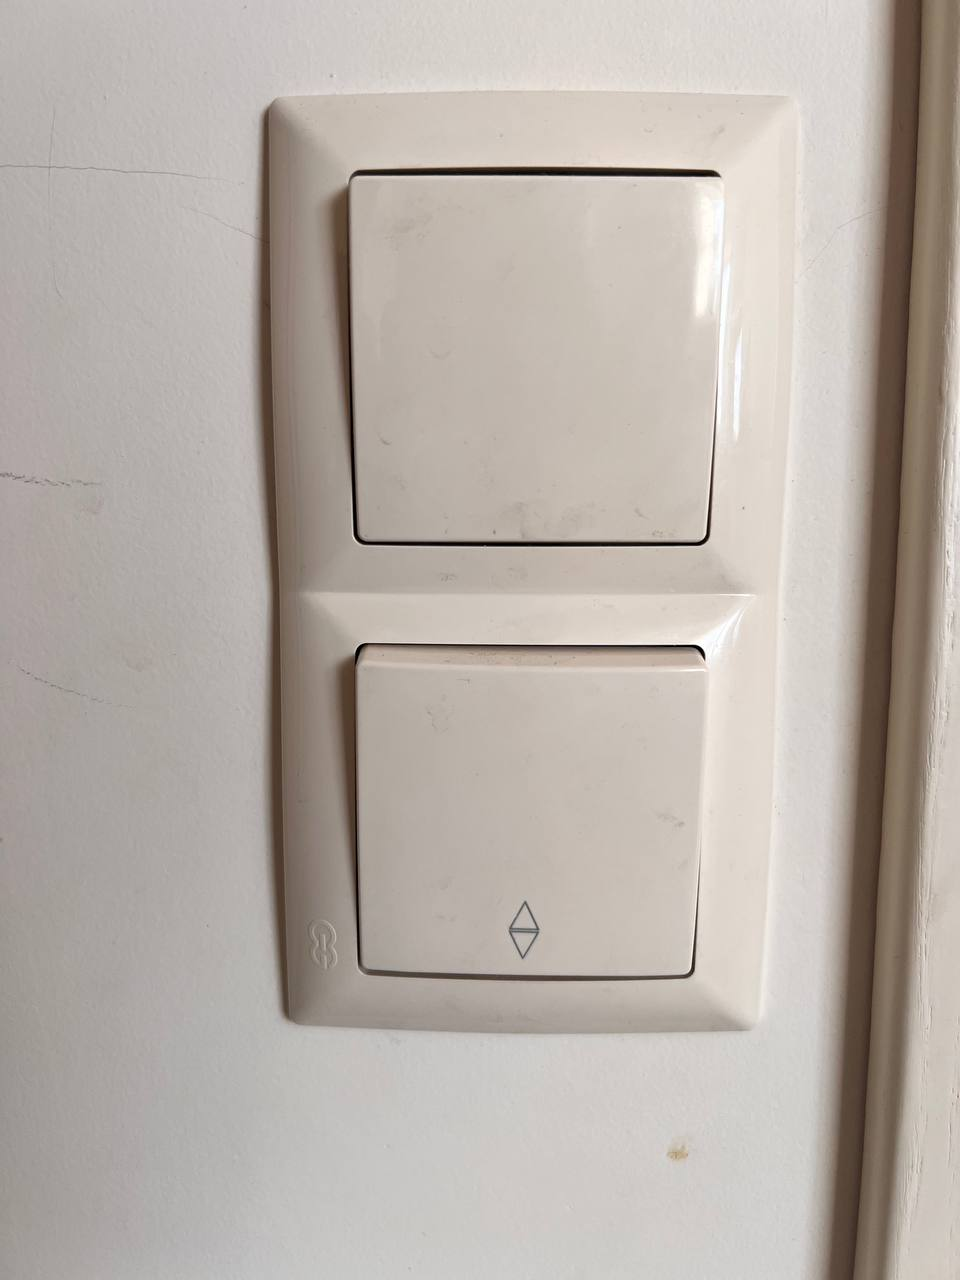Light Switcher: (268, 98, 783, 596), (271, 597, 771, 1030)
